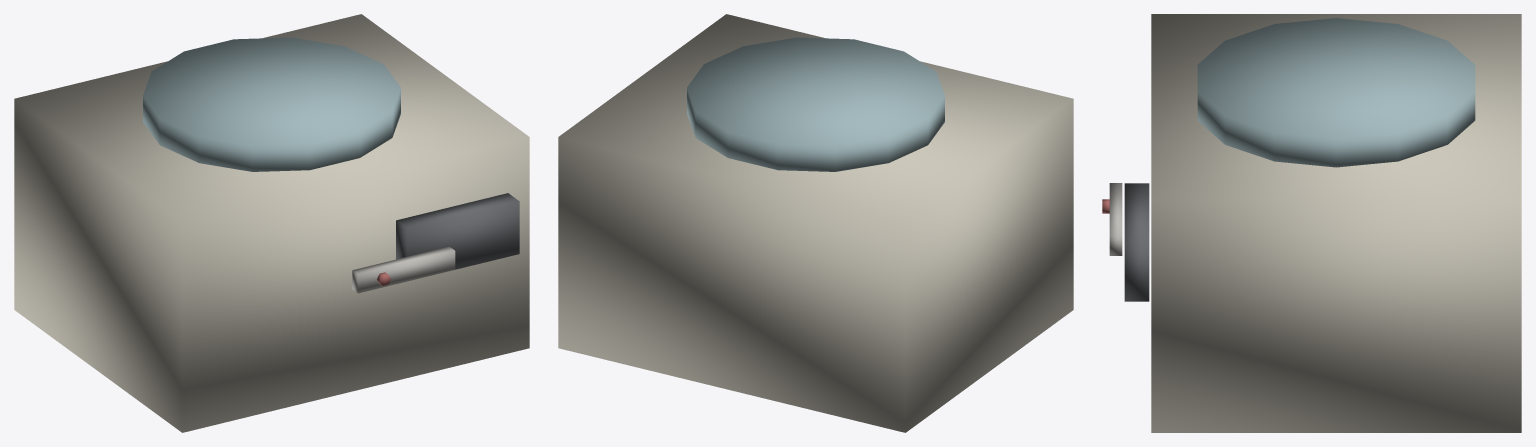
File: centrifuge_bench_unit.glb
3 views of the same model, side by side, from view 1: azimuth 30°, elevation 25°; view 2: azimuth 150°, elevation 25°; view 3: azimuth 270°, elevation 25° (orthographic). The views are drawn at different scales.
Parts seen in each view (by area): view 1: world; view 2: world; view 3: world.
Part boxes in pixels (left/top/right/bottom): world: left=14, top=14, right=529, bottom=432; world: left=558, top=14, right=1073, bottom=432; world: left=1102, top=14, right=1521, bottom=432.
Bounding box in the file's own units: 0.62 × 0.405 × 0.5885.
